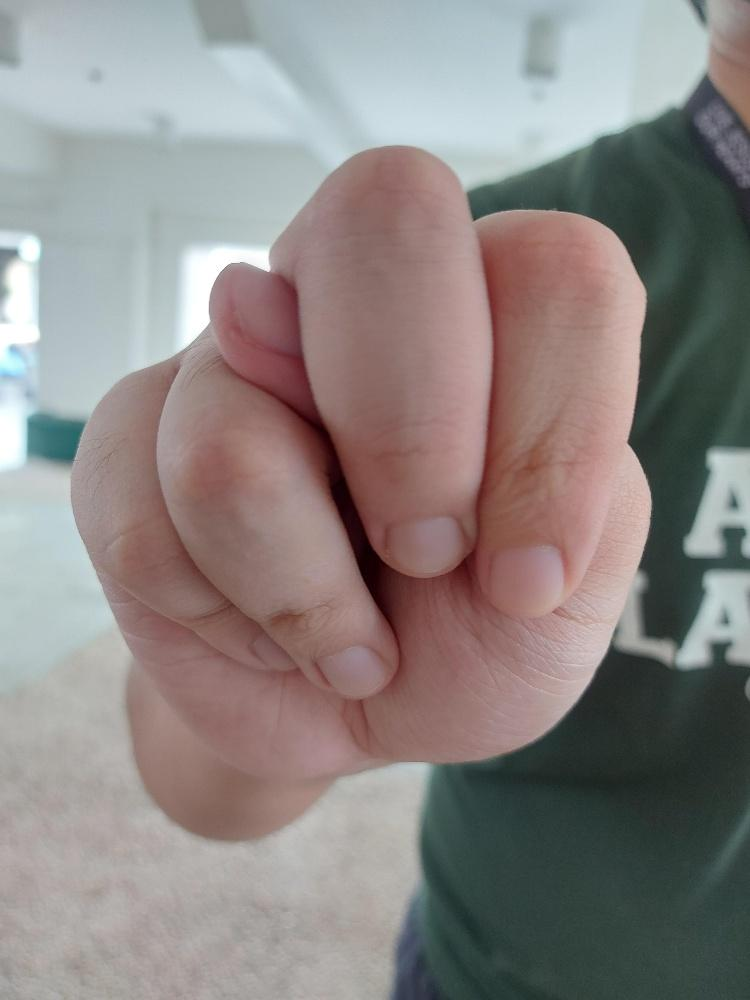n: (68, 139, 654, 777)
